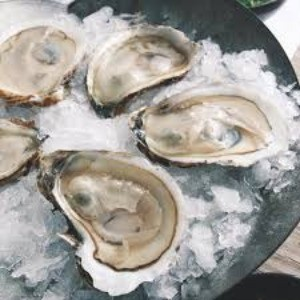oyster_brain food: (10, 6, 178, 110), (39, 178, 186, 284), (189, 79, 275, 165)
